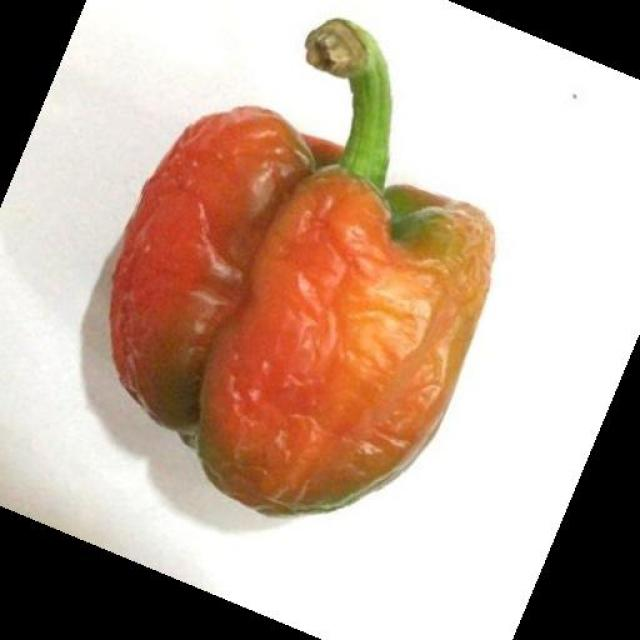Stale_Capsicum: (128, 35, 488, 491)
